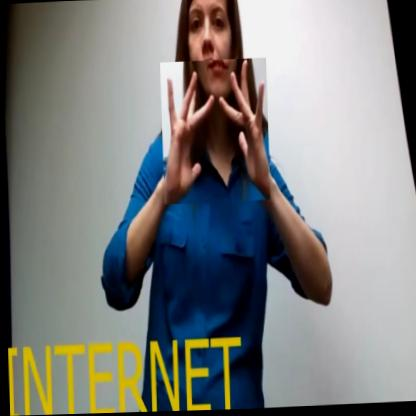Internet: (160, 59, 270, 205)
